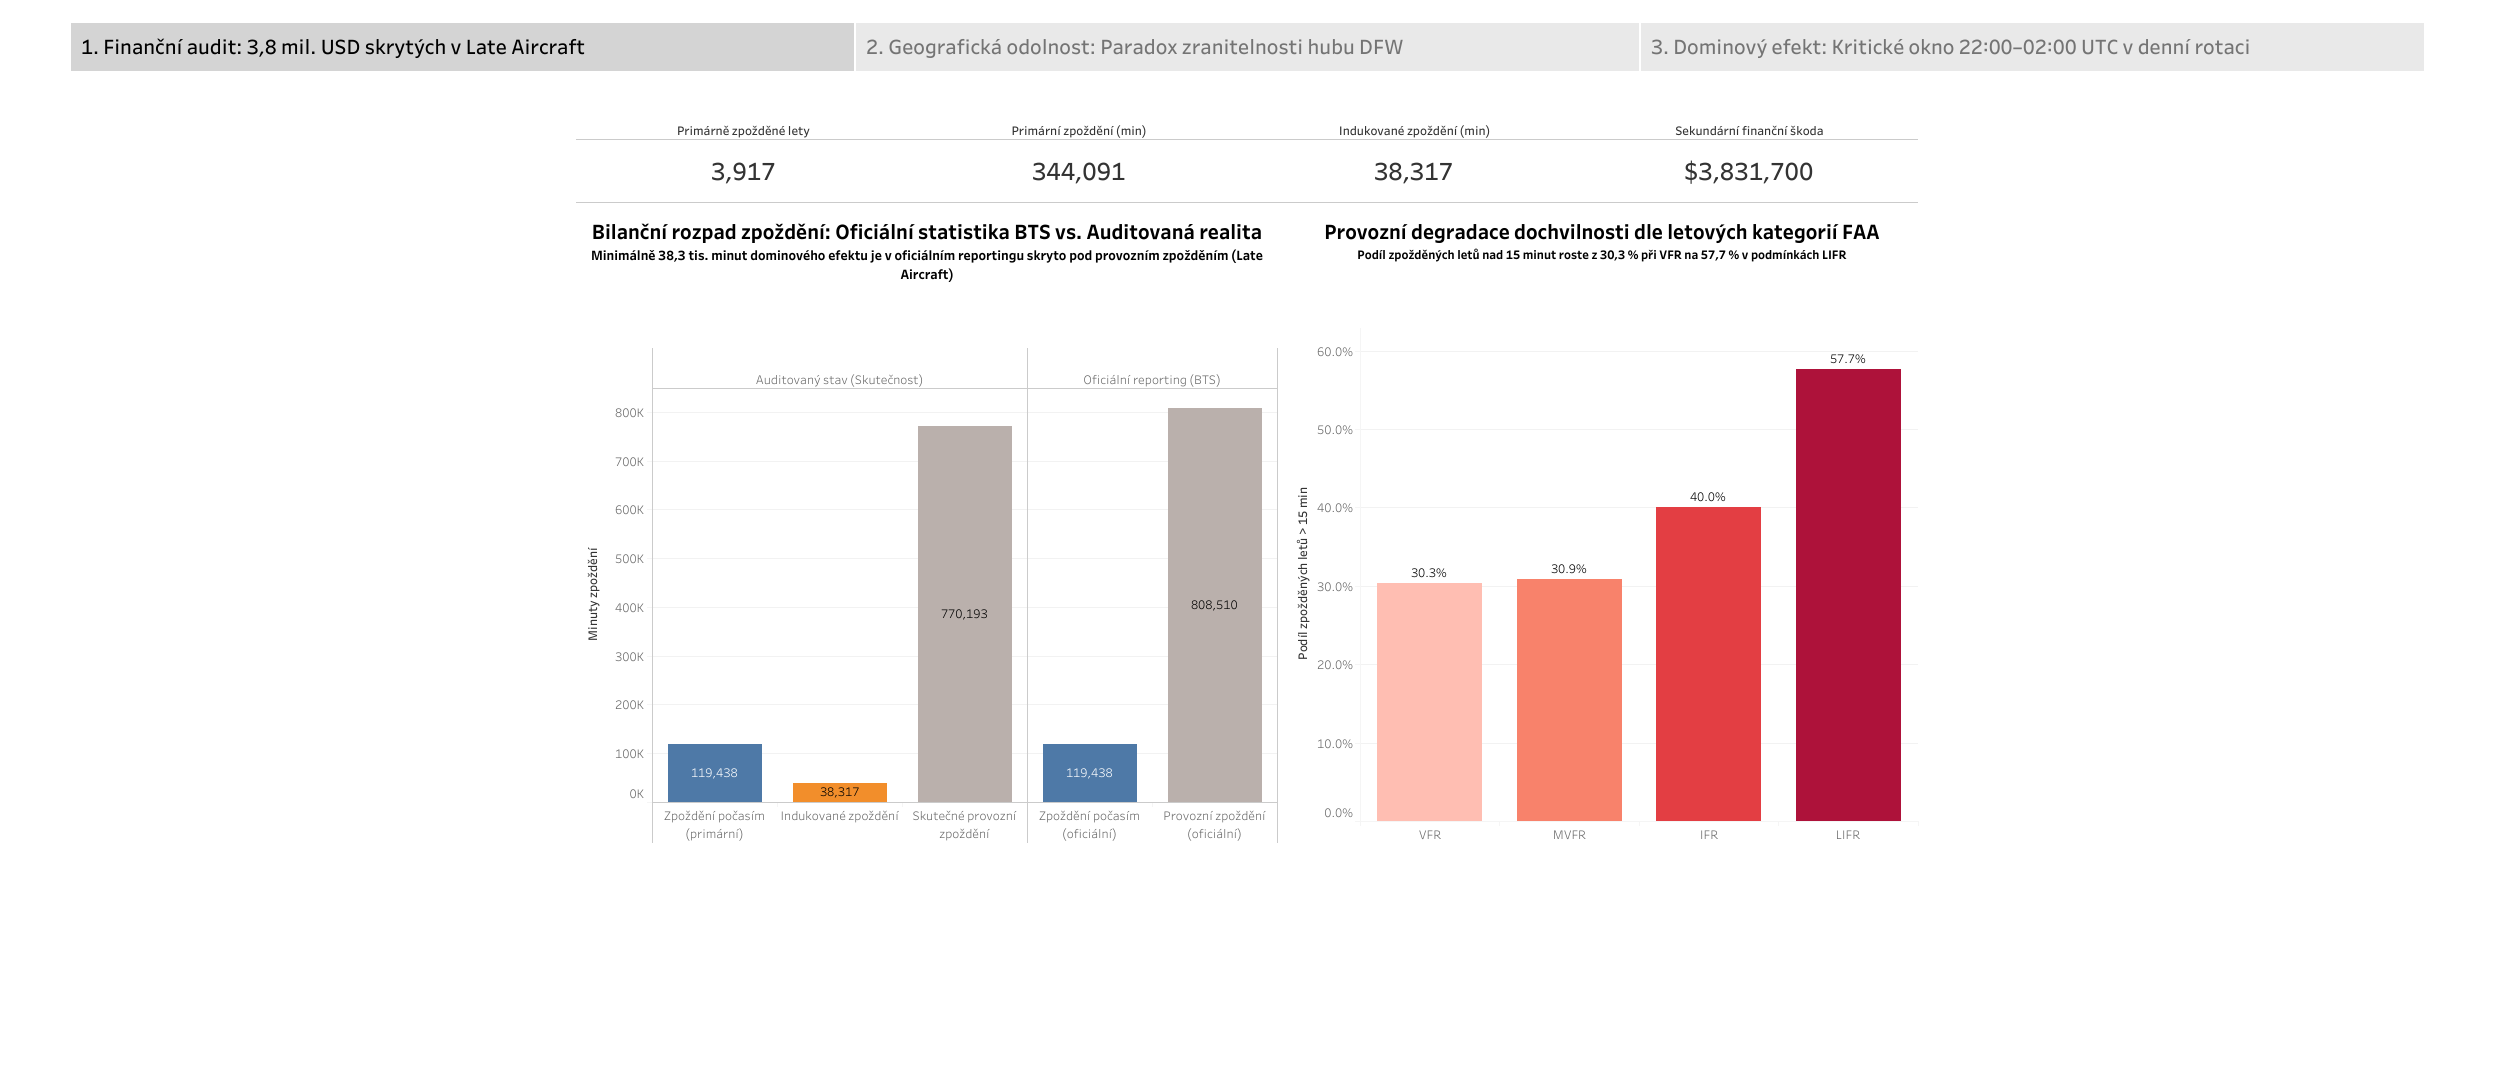

The page's visual inventory and layout, read from the dashboard file:
{"tool":"tableau","page":{"name":"Dashboard 1","canvas":[1366,768],"ordinal":0},"visuals":[{"type":"worksheet","title":"KPI_summary_cards","mark":"Automatic","box":[8,8,1350,112]},{"type":"worksheet","title":"Chart_BTS_vs_Audit_Waterfall","mark":"Automatic","rows":["Minuty zpoždění"],"cols":["Pohled","Kategorie zpoždění"],"box":[8,120,710,640]},{"type":"worksheet","title":"Chart_Flight_Category_Split1","mark":"Automatic","rows":["pct_delayed_15"],"cols":["flight_category"],"box":[718,120,639.9,640]}]}

Visuals, with their boxes on the page's 1366x768 design canvas (x1, y1, x2, y2). These are canvas units, not pixel positions in the 2494x1090 screenshot, which may show the page scaled, cropped or inside an application window:
"KPI_summary_cards" worksheet: bbox=[8, 8, 1358, 120]
"Chart_BTS_vs_Audit_Waterfall" worksheet: bbox=[8, 120, 718, 760]
"Chart_Flight_Category_Split1" worksheet: bbox=[718, 120, 1358, 760]
